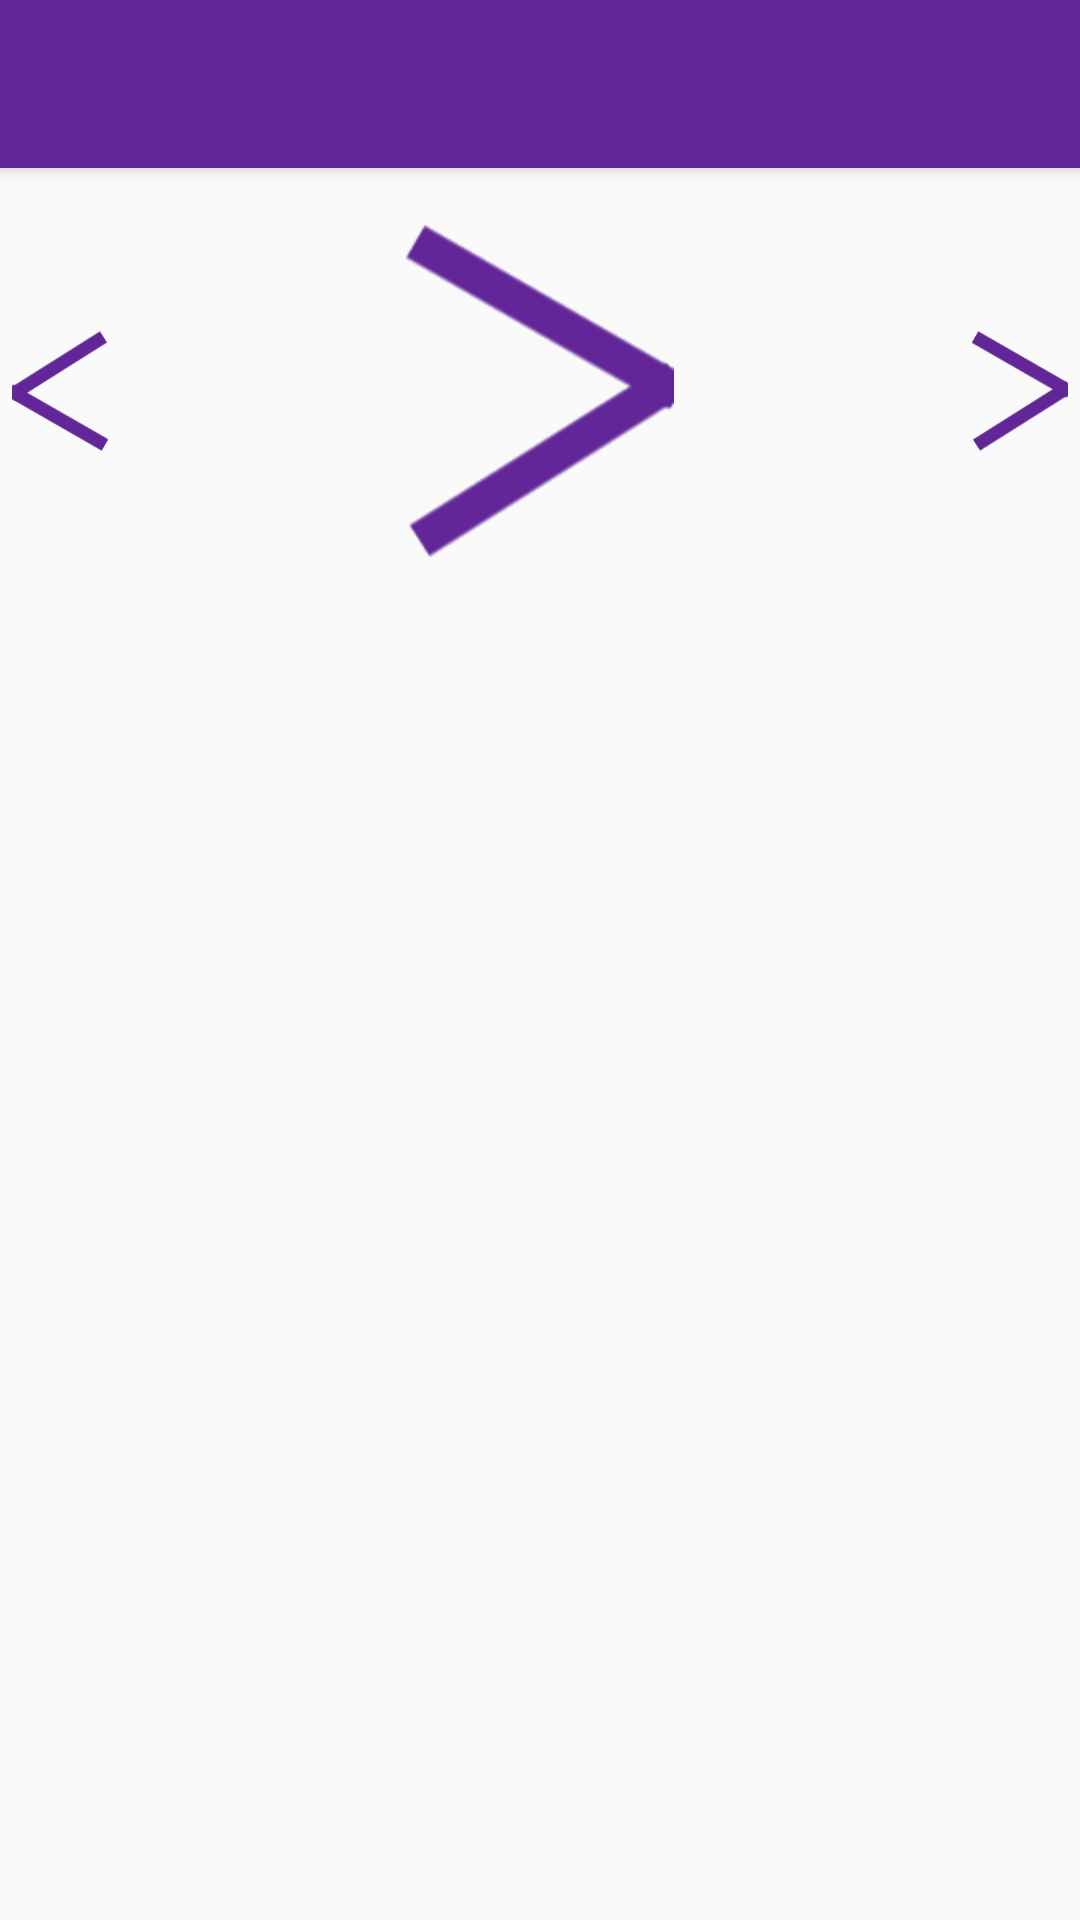

Screen size 1080px x 1920px. Icon name, then its box in pixels as (x1, y1, x2, y2):
prev: (12, 331, 108, 451)
